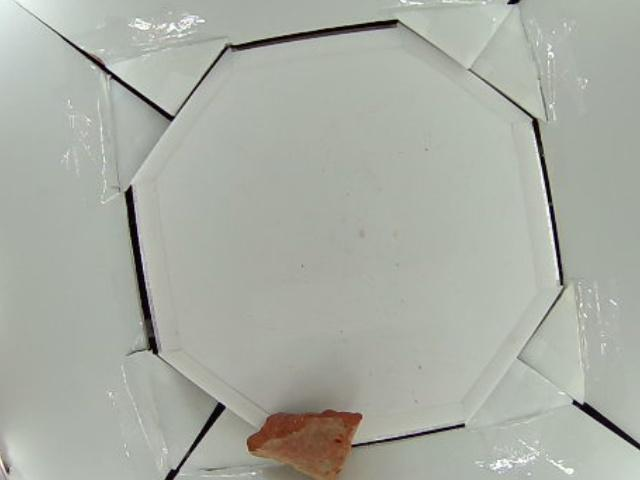Brisk: (246, 410, 364, 478)
